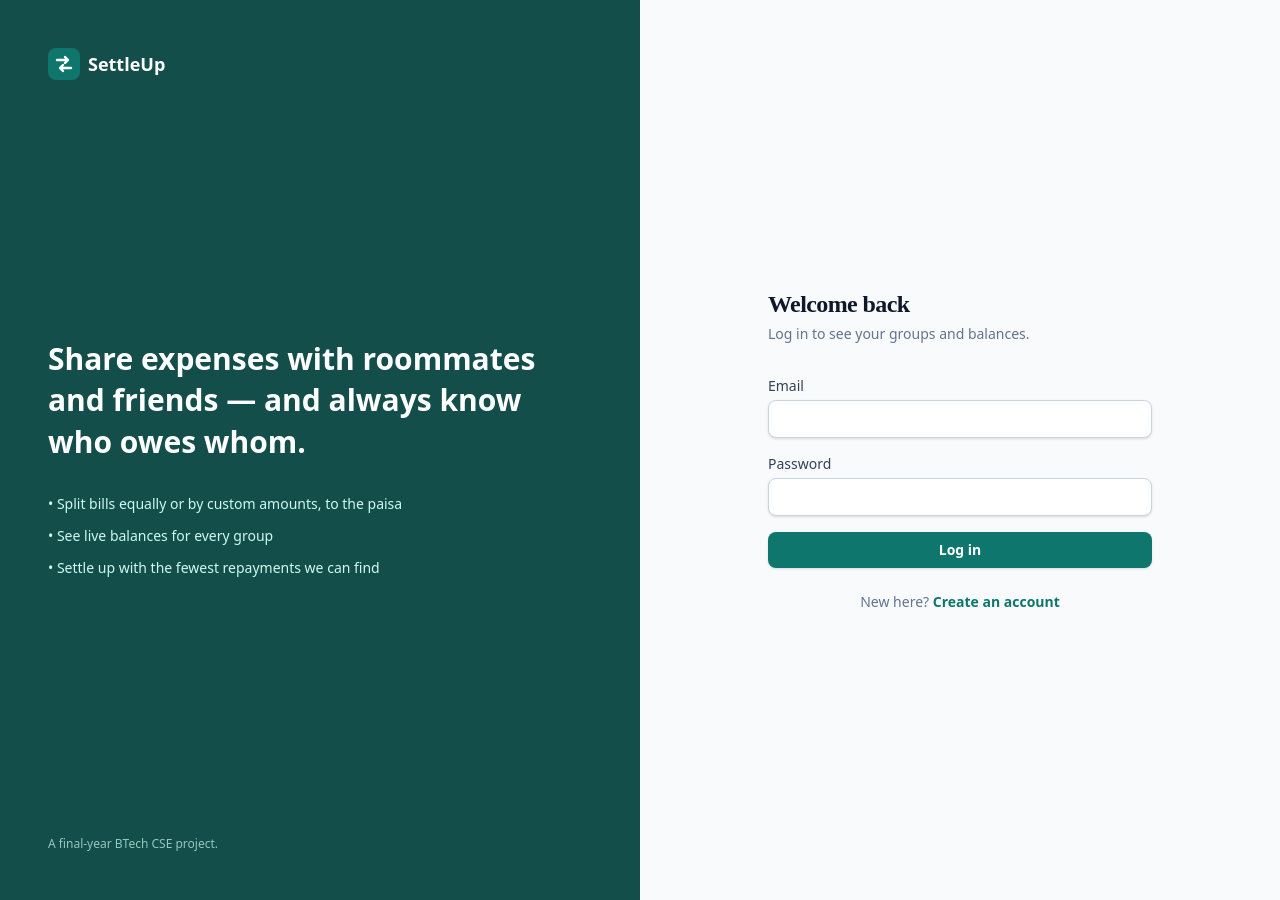
Test case: LoginPage › shows the server error message when login fails
Step 1. Type "sarvesh@example.com" into the field labelled "Email" → (960, 419), box [768,400,1152,438]
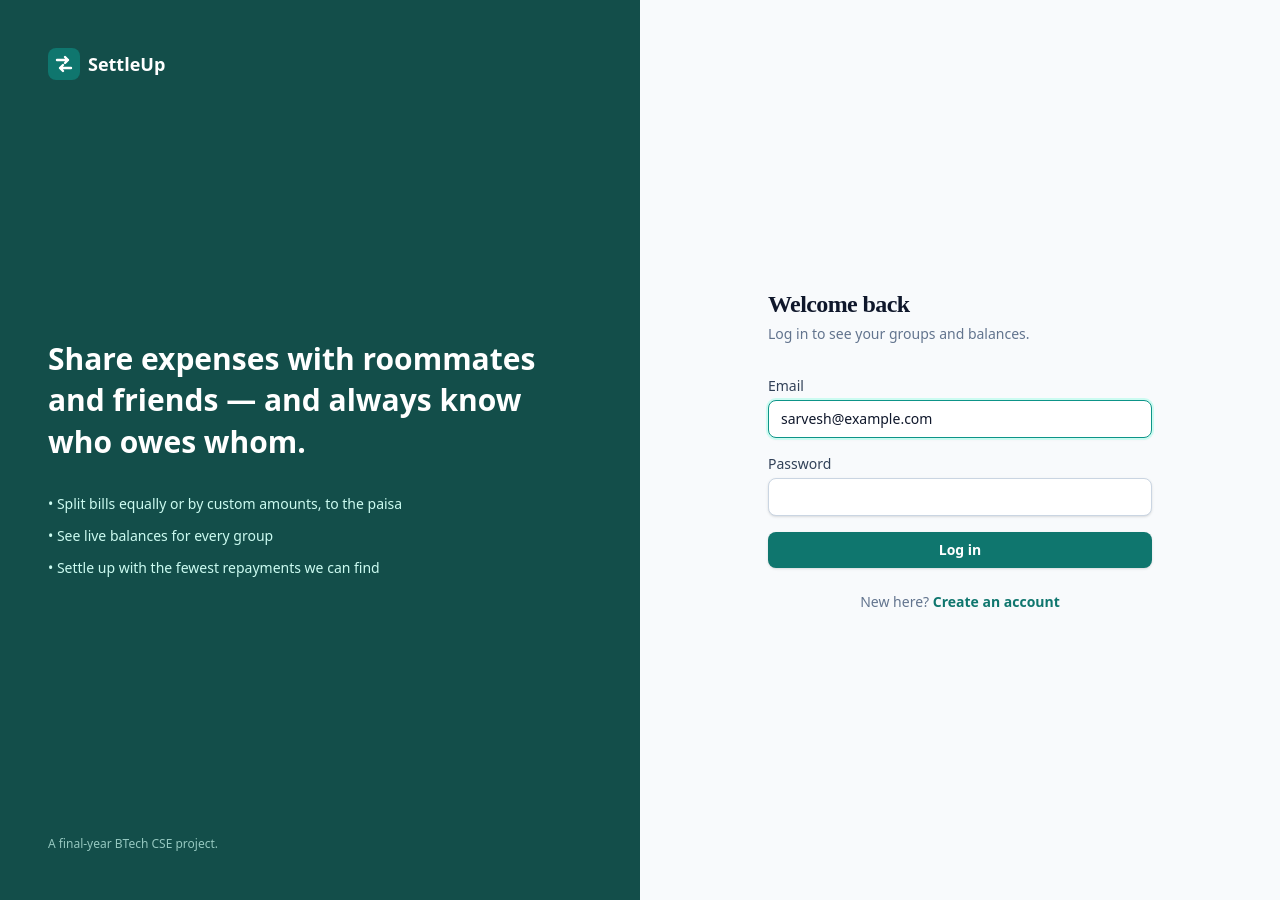
Step 2. Type "wrong-password" into the password field labelled "Password" → (960, 497), box [768,478,1152,516]
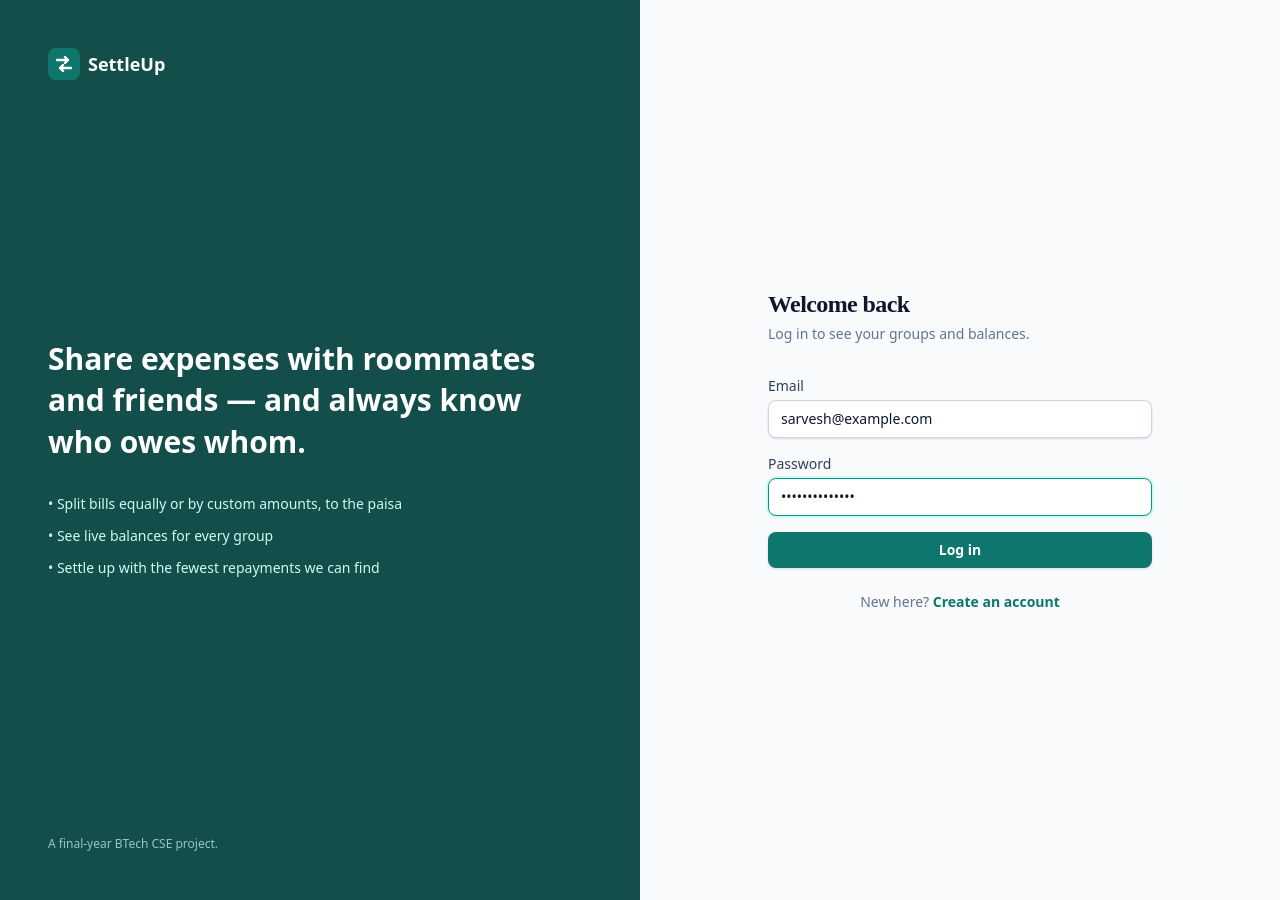
Step 3. Click the button "Log in" → click(960, 550), box [768,532,1152,568]
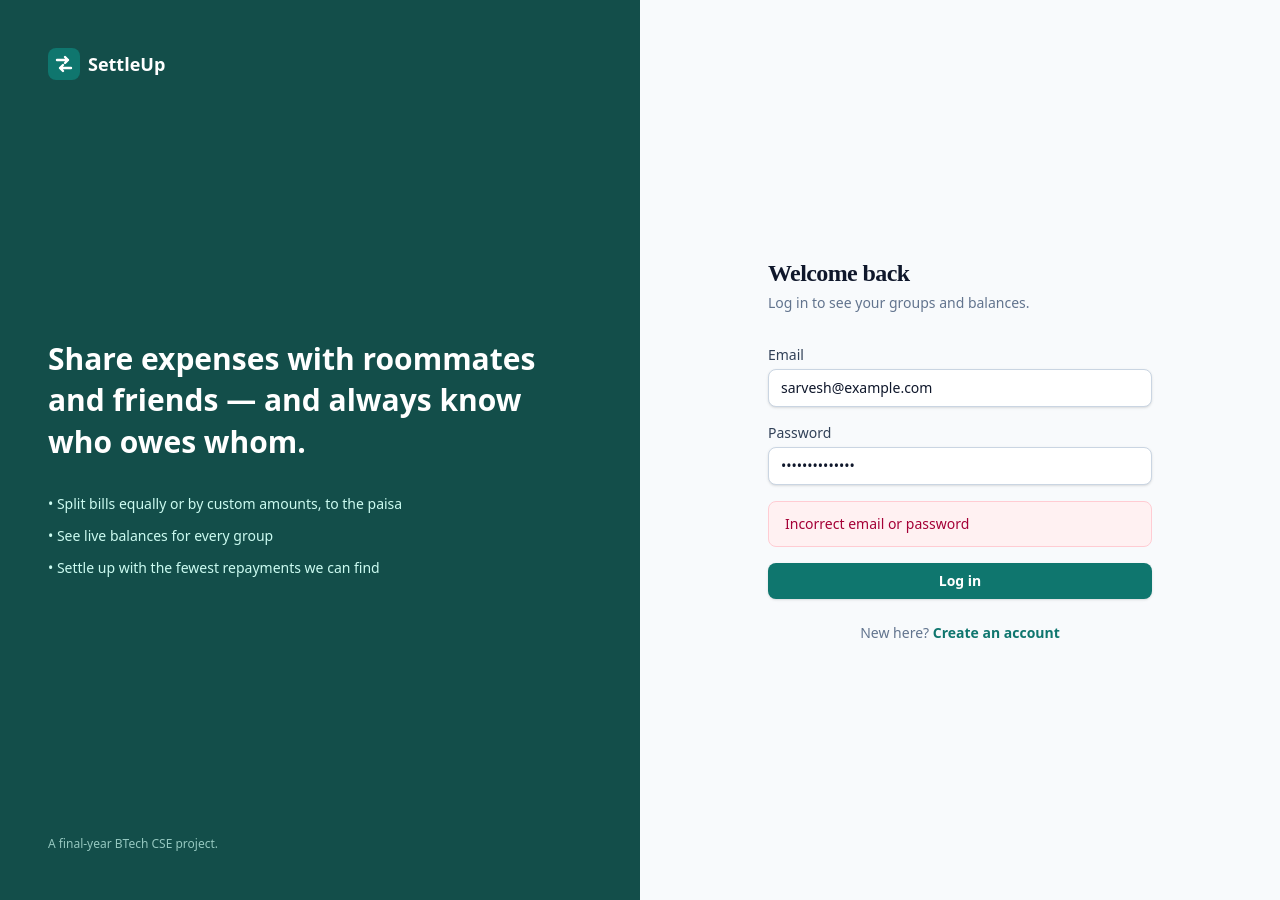
Expected: the message reads "Incorrect email or password", [785,514,969,533]
